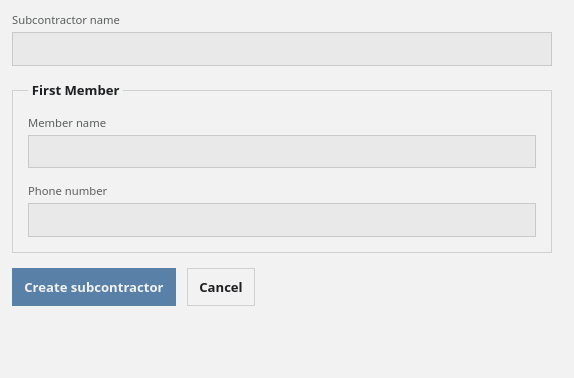
Test: announces a server failure and retains inputs
This screenshot has width=574, height=378.
Type "Acme" into the field labelled "Subcontractor name" at (282, 49), box x1=12 y1=32 x2=552 y2=66
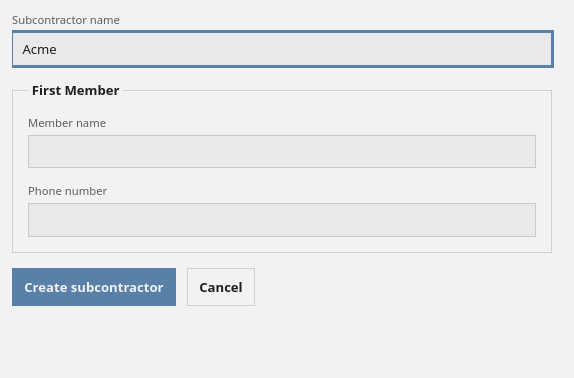
Type "Alex" into the field labelled "Member name" at (282, 151), box x1=28 y1=134 x2=536 y2=168
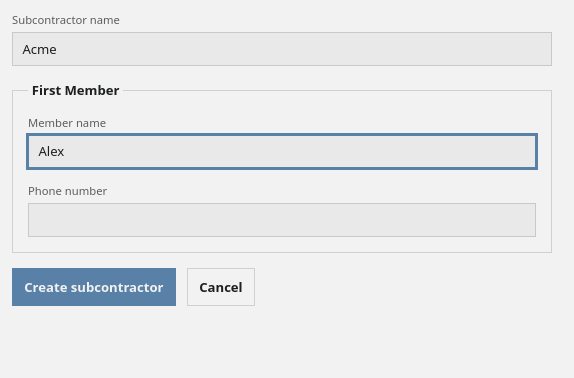
Type "9123 4567" into the field labelled "Phone number" at (282, 220), box x1=28 y1=203 x2=536 y2=237
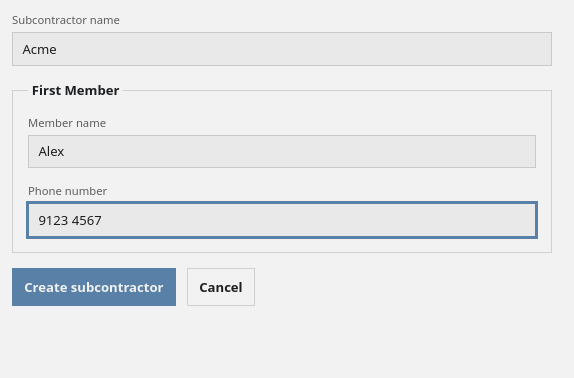
Click the button "Create subcontractor" at (94, 287), box x1=12 y1=268 x2=176 y2=306
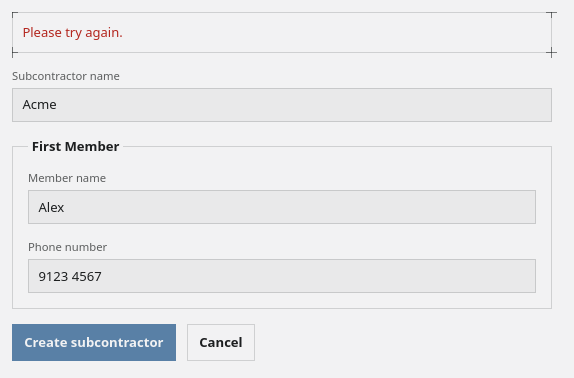
Expected: the message reads "Please try again.", x1=22 y1=23 x2=123 y2=41
